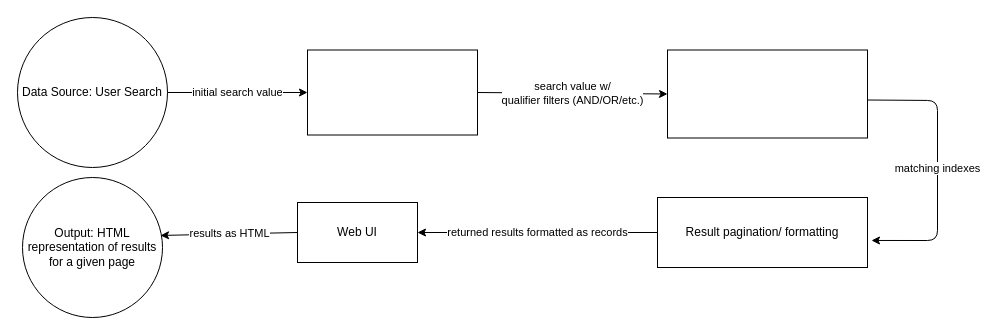
This 998x335 diagram has some shape labels left out. Each missing label, with the centre of its shape:
"KWIC Index Adapter" goes at (x=767, y=93).
"Search String Parser for Qualifiers" goes at (x=392, y=92).
